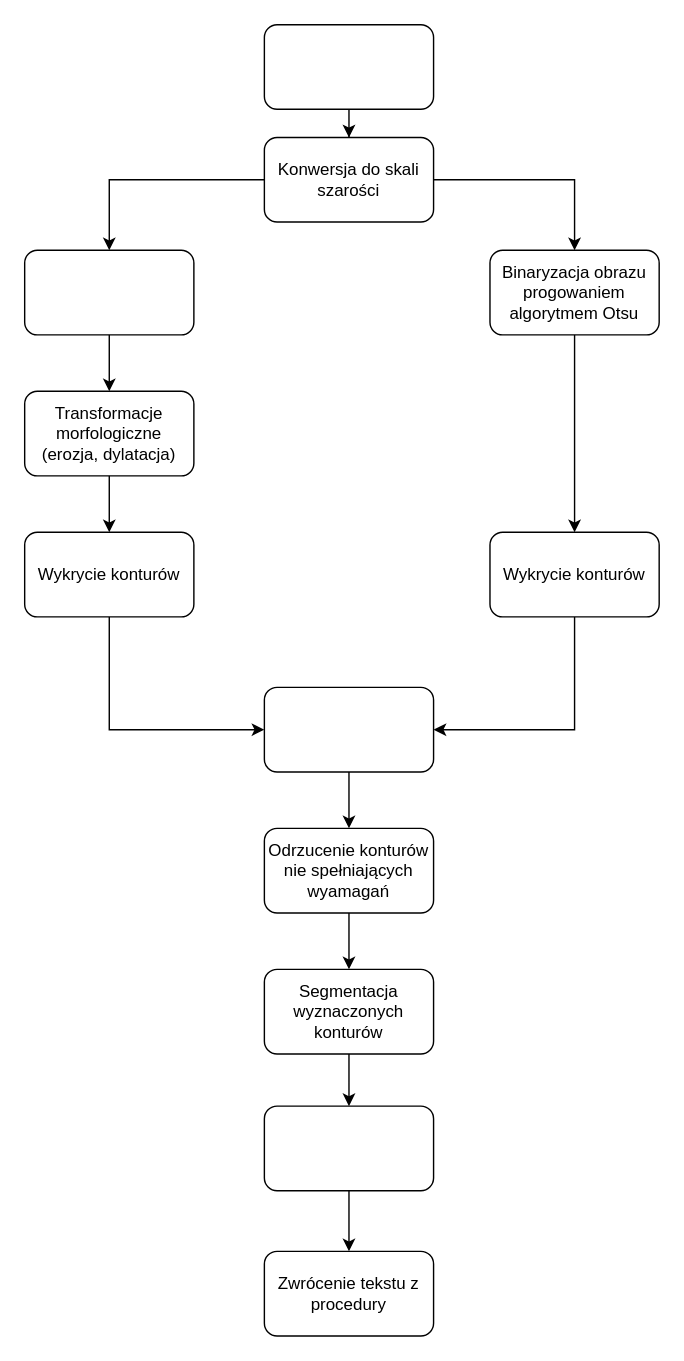
Image size: 684x1361. Some labels were removed from this diagram. Each missing label, with the centre of its shape:
"Nałożenie maski HSV" belongs at [108,292].
"Rozpoznanie tekstu z przetworzonego obrazu" belongs at [348,1148].
"Skalowanie fragmentu obrazu" belongs at [348,66].
"Wyliczenie średniej wysokości konturów" belongs at [348,729].
